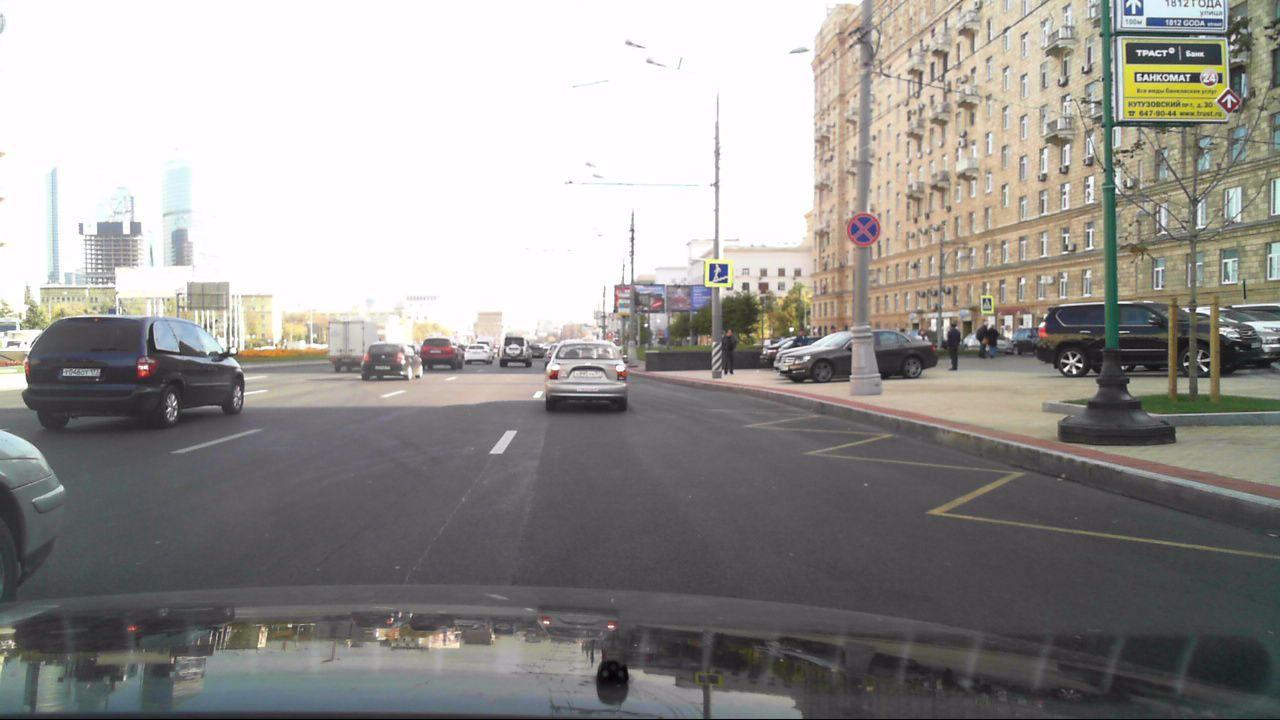No Parking: (848, 210, 880, 247)
